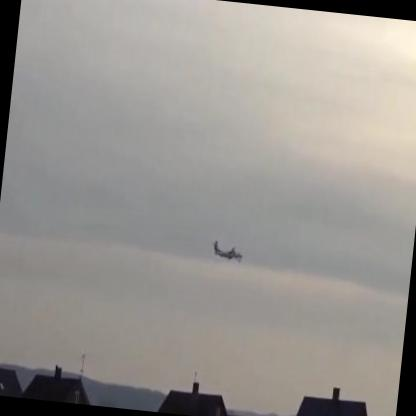plane: (211, 239, 243, 265)
